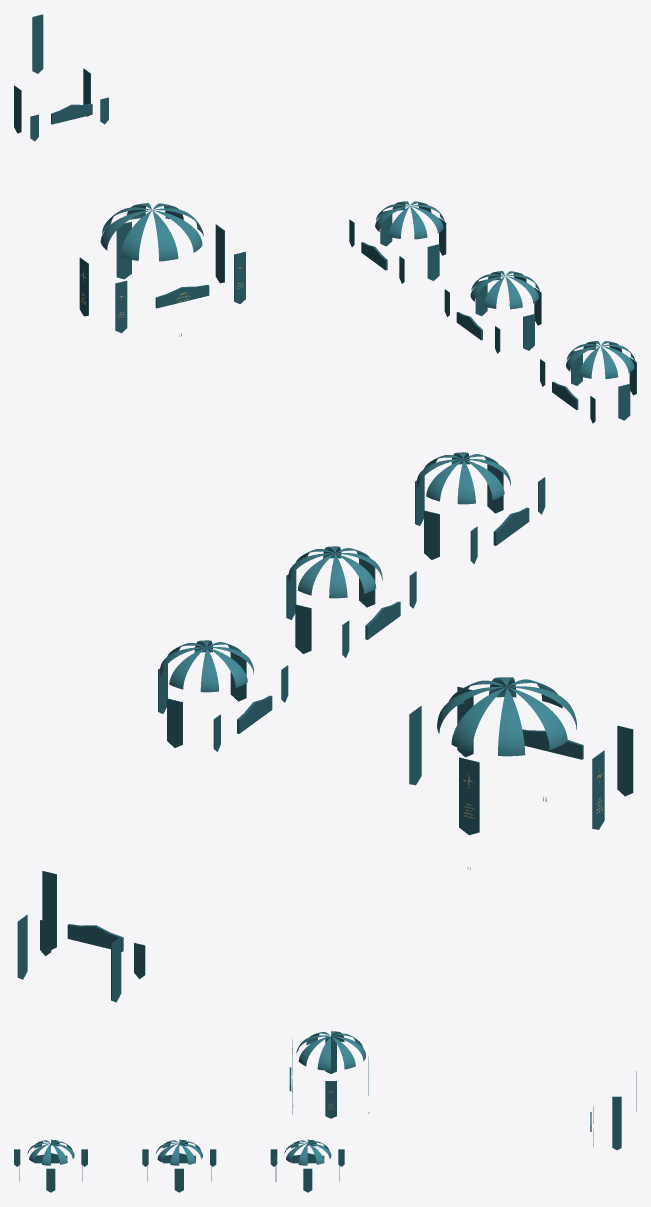
File: Neris-01.glb
The picture shows the model from 3 angles, top to bottom: view 1: azimuth 30°, elevation 25°; view 2: azimuth 150°, elevation 25°; view 3: azimuth 270°, elevation 25°; orthographic projection. The views are drawn at different scales.
Visible parts, largest first — view 1: Neris Teal Banner.001, Teal Enamel Alternate.001; view 2: Neris Teal Banner.001, Teal Enamel Alternate.001; view 3: Neris Teal Banner.001, Teal Enamel Alternate.001.
Boxes of the visible parts, x1,y1,x2,y2 form: Neris Teal Banner.001: (14,14,636,423); Teal Enamel Alternate.001: (100,201,635,378); Neris Teal Banner.001: (17,467,633,1002); Teal Enamel Alternate.001: (159,452,576,756); Neris Teal Banner.001: (14,1036,636,1192); Teal Enamel Alternate.001: (27,1031,365,1165).
Bounding box in the file's own units: 45.56 × 14.74 × 107.
